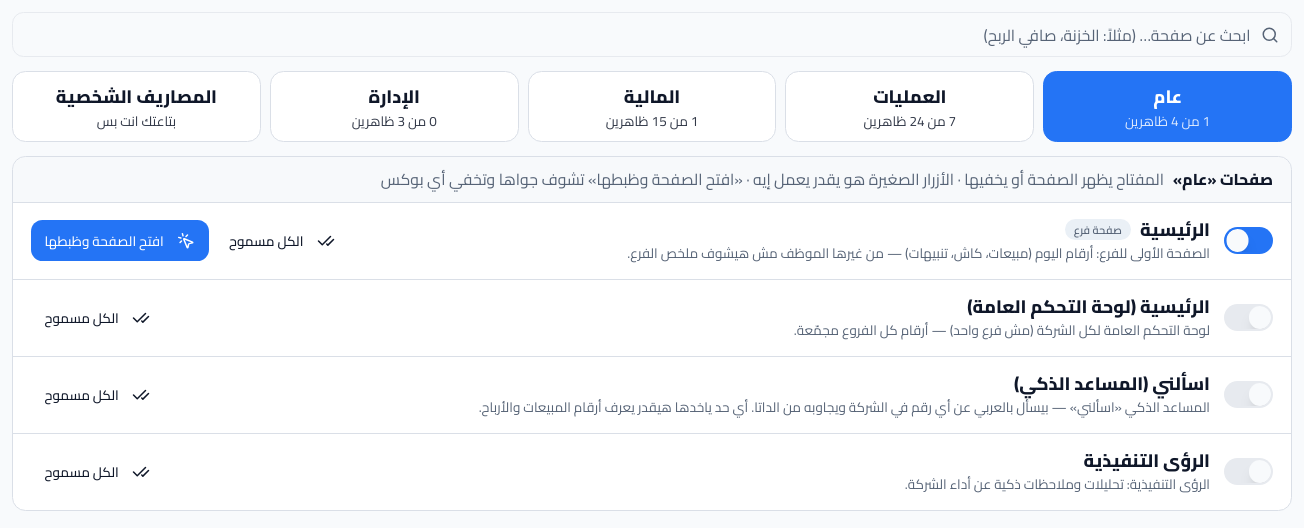
Test: PermissionEditor › hiding a page with its switch stores one override and marks it «متعدّل»
The image size is (1304, 528).
Click the switch named "إخفاء الرئيسية" at (1248,241), box [1224,227,1273,254]
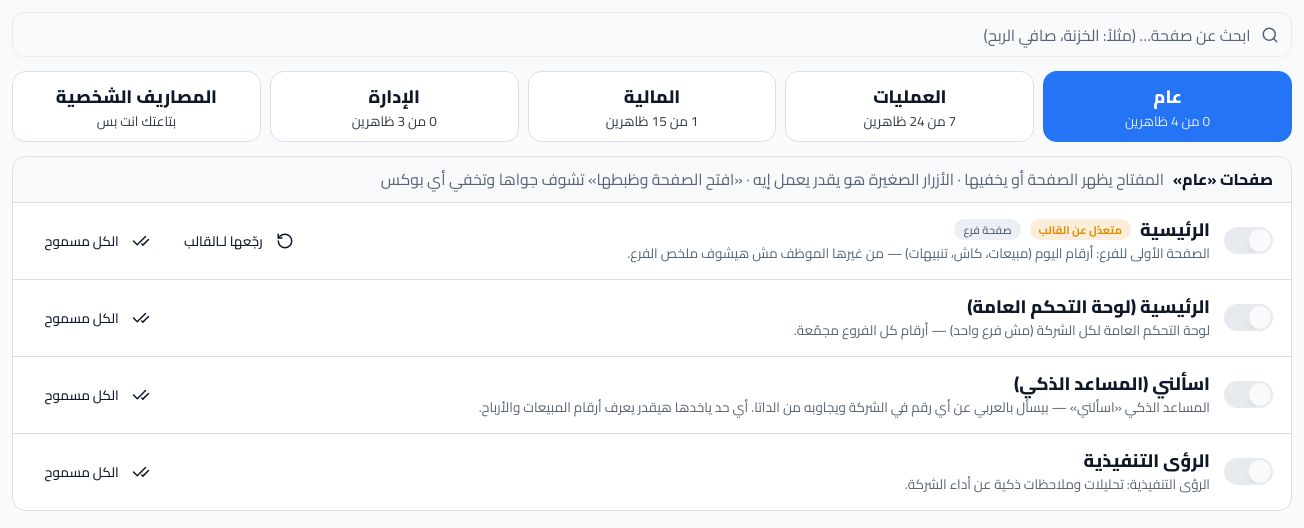
Now the text "متعدّل عن القالب" is shown, box [1030,219,1131,240]
